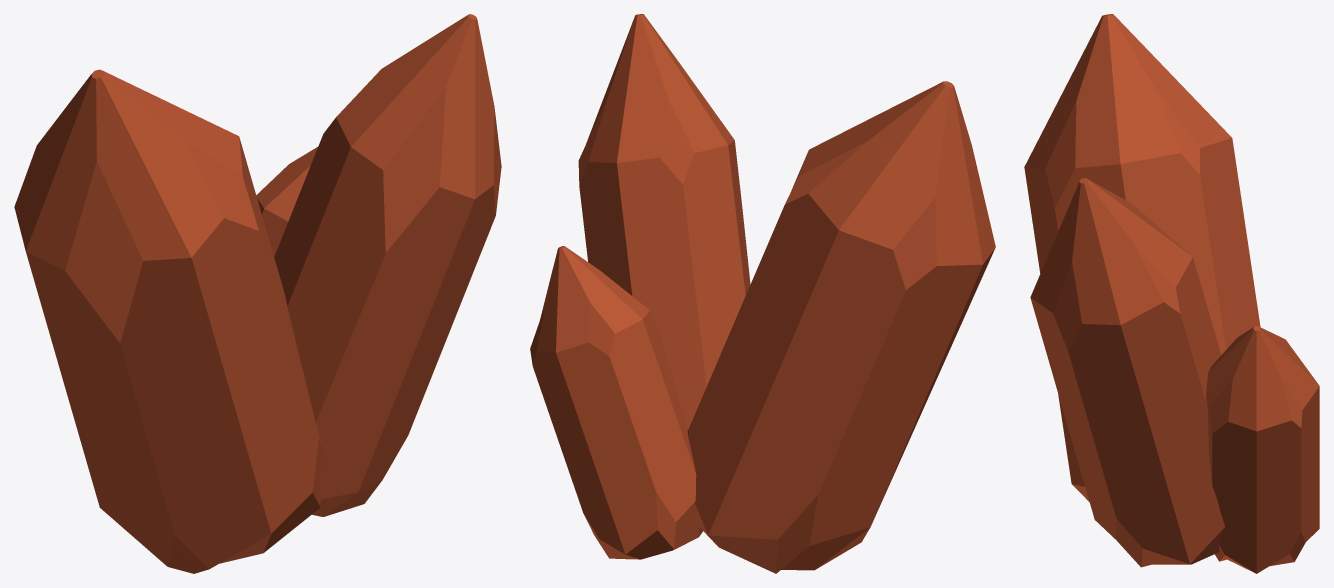
Rendered from SmallRedCrystalCluster.fbx.
3 renders of one model, left to right at view 1: azimuth 30°, elevation 25°; view 2: azimuth 150°, elevation 25°; view 3: azimuth 270°, elevation 25°, orthographic. The views are drawn at different scales.
Visible parts, largest first — view 1: SmallCrystalCluster; view 2: SmallCrystalCluster; view 3: SmallCrystalCluster.
Part boxes in pixels (x1=…): SmallCrystalCluster: x1=14, y1=14, x2=501, y2=573; SmallCrystalCluster: x1=530, y1=14, x2=995, y2=573; SmallCrystalCluster: x1=1024, y1=14, x2=1319, y2=573.
Size of the model in its own units: 264 by 296 by 174.
